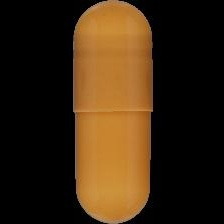68151-1364: (0, 0, 224, 224)
